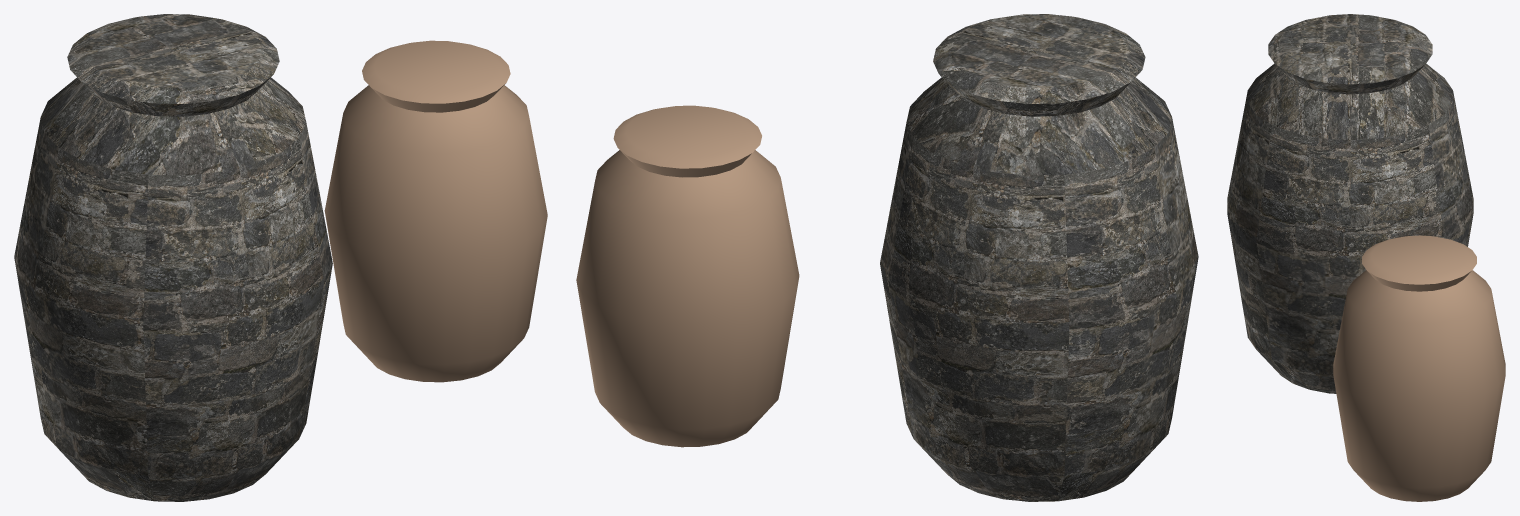
Rendered from funeral-urns-v01.glb.
3 views of the same model, side by side, from view 1: azimuth 30°, elevation 25°; view 2: azimuth 150°, elevation 25°; view 3: azimuth 270°, elevation 25° (orthographic). The views are drawn at different scales.
Visible parts, largest first — view 1: funeral-urns; view 2: funeral-urns; view 3: funeral-urns.
Boxes of the visible parts, x1,y1,x2,y2 form: funeral-urns: (14, 14, 547, 501); funeral-urns: (576, 14, 1198, 501); funeral-urns: (1227, 14, 1505, 501).
Size of the model in its own units: 1.41 by 1.02 by 0.8058.
2 materials, 1 textured.
